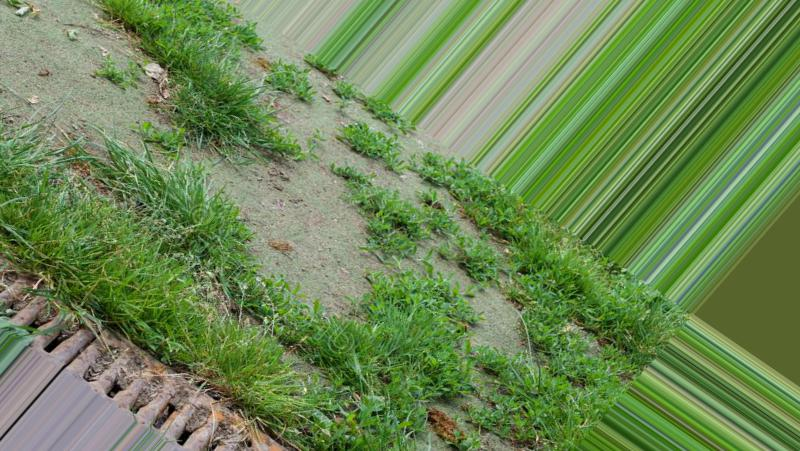patch: (202, 164, 387, 286), (246, 74, 394, 147), (457, 266, 549, 355), (56, 59, 145, 132), (424, 185, 505, 260), (13, 51, 50, 118), (11, 17, 113, 38)
